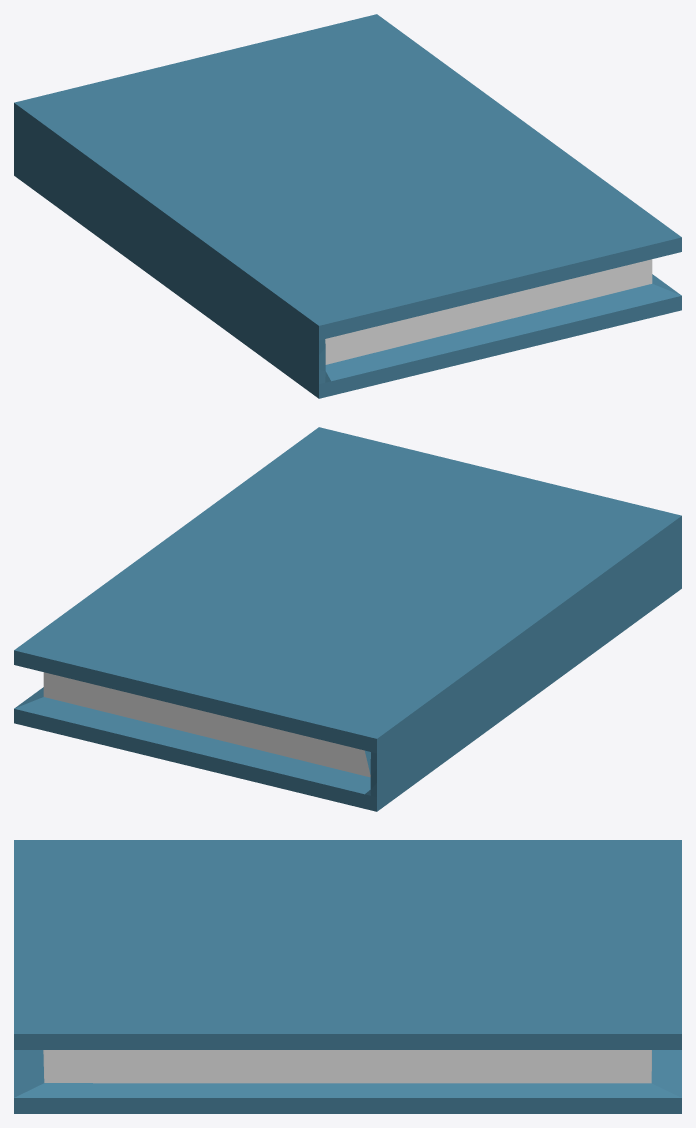
File: Book.fbx
3 views of the same model, one above another, from view 1: azimuth 30°, elevation 25°; view 2: azimuth 150°, elevation 25°; view 3: azimuth 270°, elevation 25° (orthographic). The views are drawn at different scales.
Visible parts, largest first — view 1: Book; view 2: Book; view 3: Book.
Boxes of the visible parts, <box> form: Book: <box>14,14,681,398</box>; Book: <box>14,427,681,811</box>; Book: <box>14,840,681,1113</box>.
Bounding box in the file's own units: 200 × 38.41 × 291.
1 material, 1 textured.
